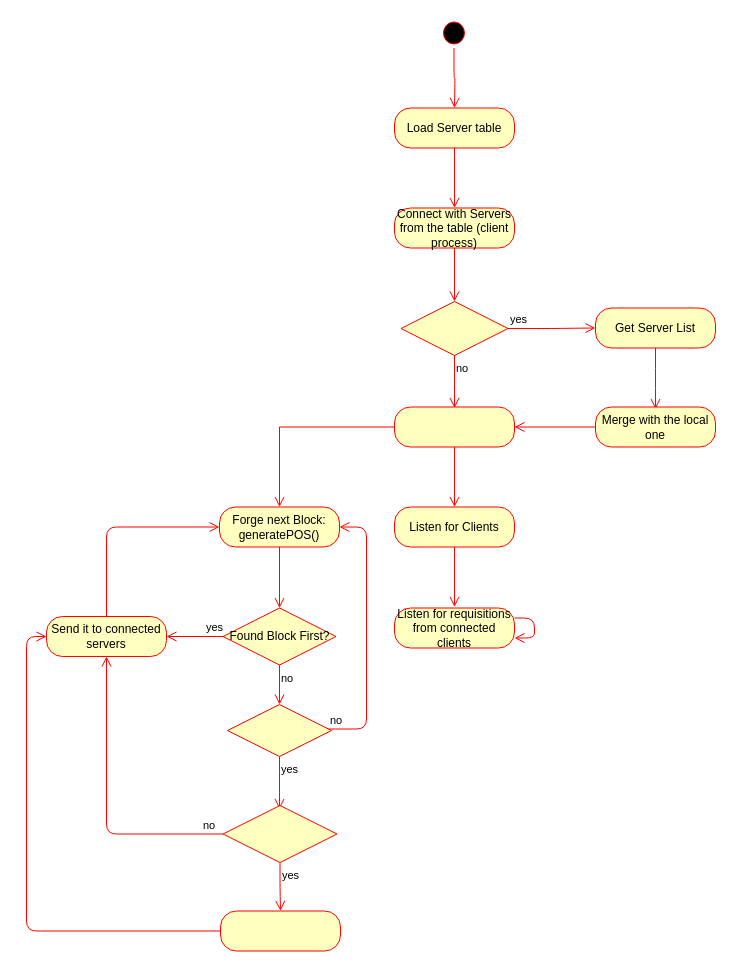
The diagram is 733 pixels wide and 968 high, and some of its shapes have lost their labels. The shapes that lost their labels are listed below. From the top down, each one's box as (x1, y1, x2, y2) in pixels, then its label:
(400, 300, 508, 356): First connection?
(394, 406, 514, 447): Load and Update local Blockchain: atualizaBlockchain()
(226, 704, 332, 756): Received Block is valid?
(222, 804, 337, 862): Main chain surpassed?
(220, 910, 340, 951): Recover main chain: recuperaCadeiaPrincipal()
